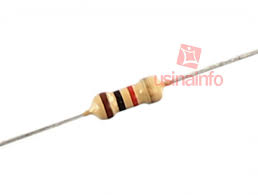resistor: (73, 70, 168, 146)
